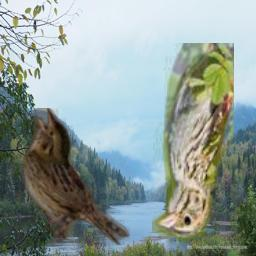Sparrow: (152, 43, 234, 245), (22, 108, 130, 245)
